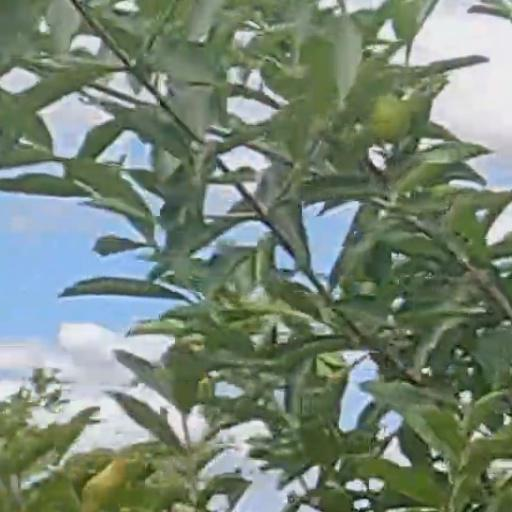acerola: (369, 97, 408, 135)
